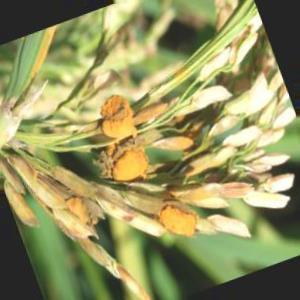Leaf_Scald: (102, 96, 141, 186), (65, 186, 100, 241), (157, 200, 200, 244)
